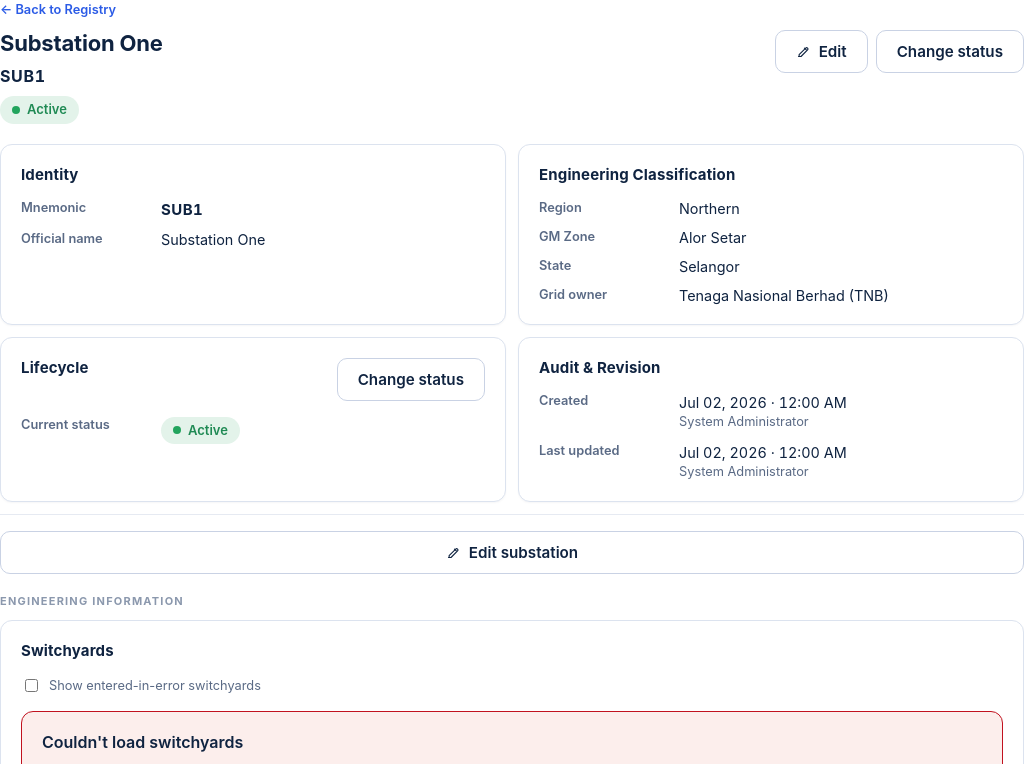
Test: SubstationDetailPage › only offers legal target statuses and surfaces a backend rejection inside the confirm dialog
Click the button "Change status" in the row of "Lifecycle". click: [411, 379]
box: [337,358,485,400]
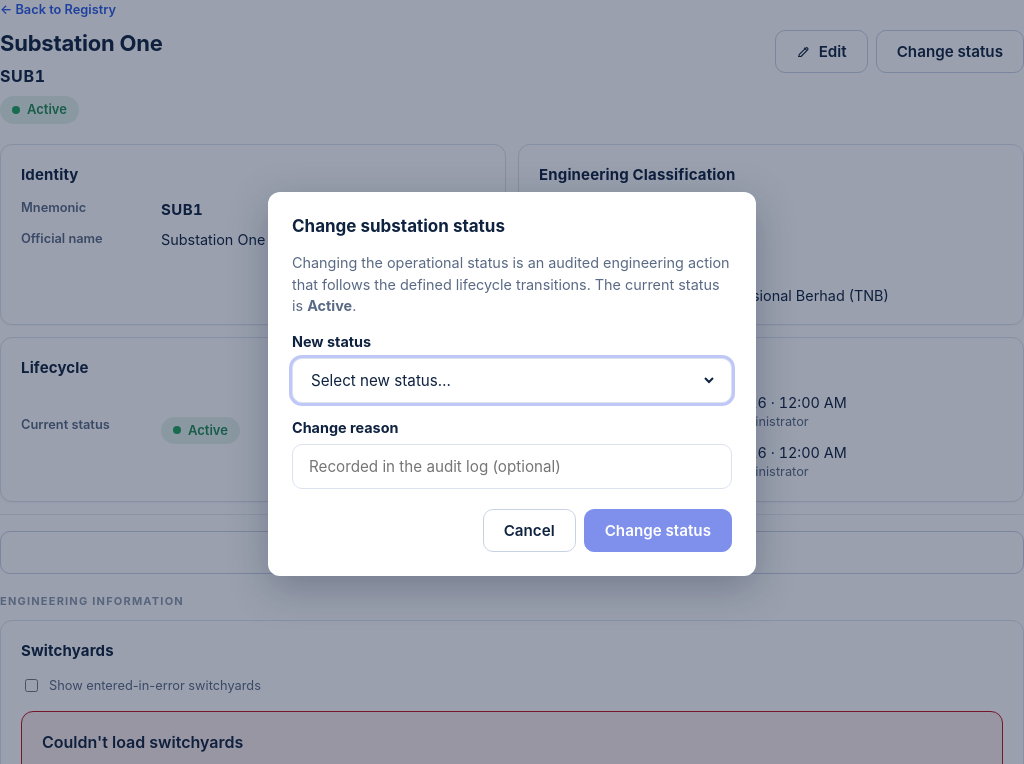
Select "Decommissioned" in the dropdown labelled "New status". click: [512, 380]
box: [307,359,717,402]
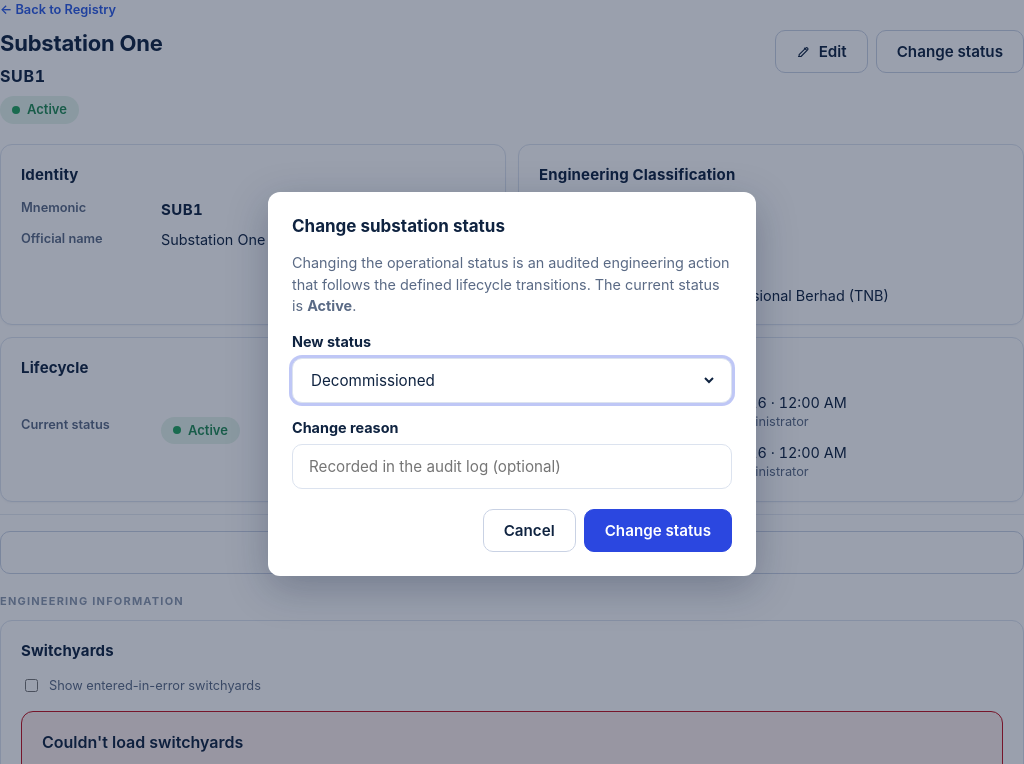
Click the button "Change status". click: [658, 530]
box: [584,509,732,552]
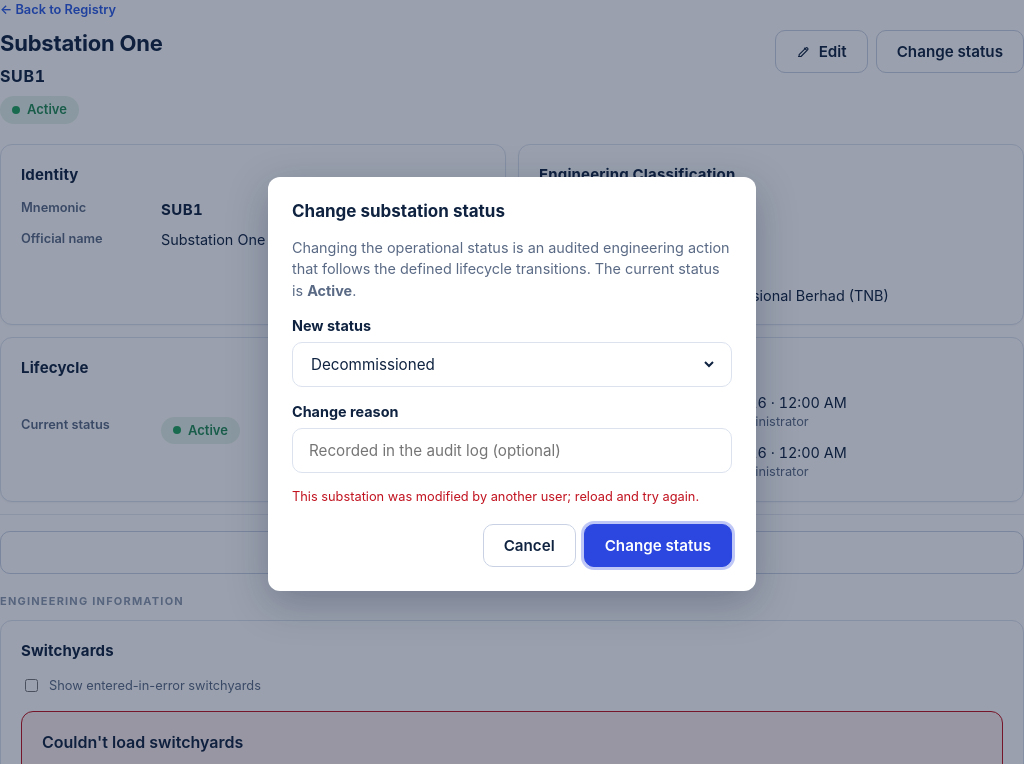
Check: the text "This substation was modified by another user; reload and try again." is shown, box [292,489,732,504]
